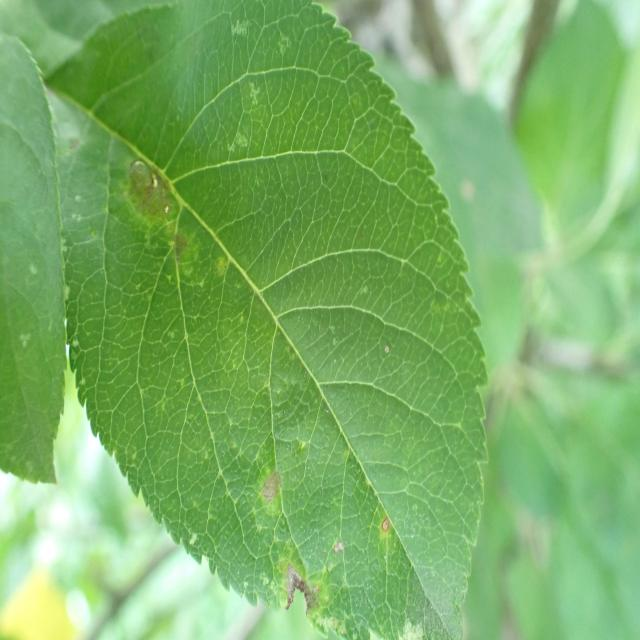frog-eye-leaf-spot: (44, 0, 488, 637)
